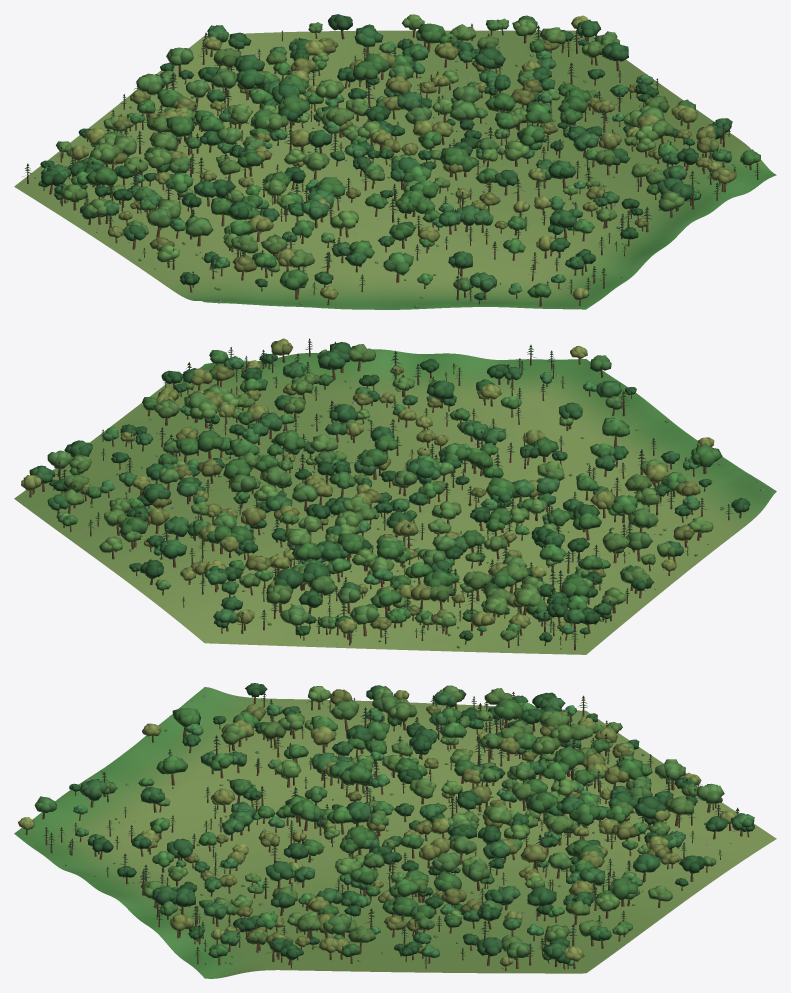
3 views of the same model, one above another, from view 1: azimuth 30°, elevation 25°; view 2: azimuth 150°, elevation 25°; view 3: azimuth 270°, elevation 25° (orthographic).
Visible parts, largest first — view 1: broadleaf_canopy, terrain, trunks, conifer_canopy; view 2: broadleaf_canopy, terrain, trunks, conifer_canopy, shrubs; view 3: broadleaf_canopy, terrain, trunks, conifer_canopy.
Part boxes in pixels (<box>): broadleaf_canopy: <box>38,14,760,300</box>; terrain: <box>14,30,776,309</box>; trunks: <box>27,24,758,306</box>; conifer_canopy: <box>22,23,761,296</box>; broadleaf_canopy: <box>21,338,750,642</box>; terrain: <box>14,349,776,654</box>; trunks: <box>29,339,741,650</box>; conifer_canopy: <box>55,338,732,642</box>; shrubs: <box>65,364,724,649</box>; broadleaf_canopy: <box>18,683,754,966</box>; terrain: <box>14,687,776,978</box>; trunks: <box>25,690,749,970</box>; conifer_canopy: <box>43,689,739,963</box>.
Bounding box in the file's own units: 4330 × 335 × 5000.
